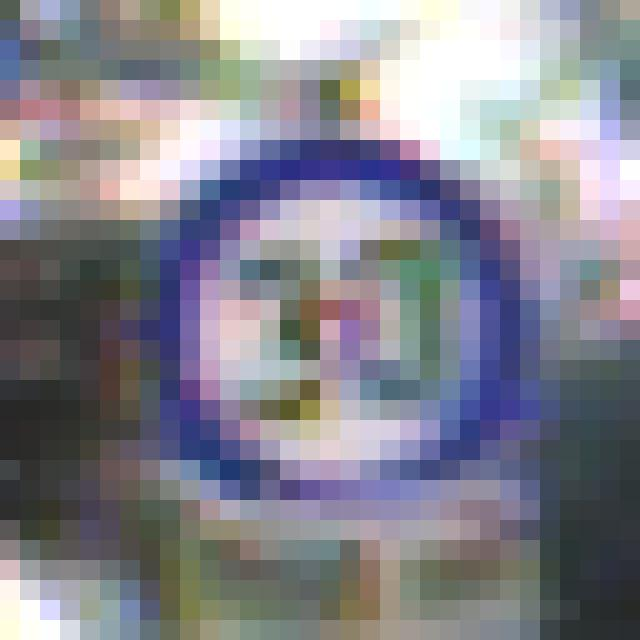SPEED LIMIT 30: (153, 143, 537, 512)
